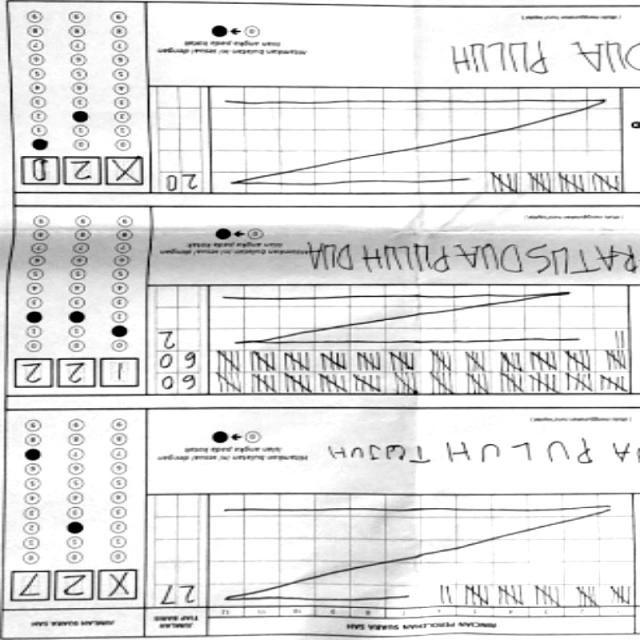Suara: (14, 151, 153, 193), (20, 359, 150, 398), (8, 573, 142, 607)
